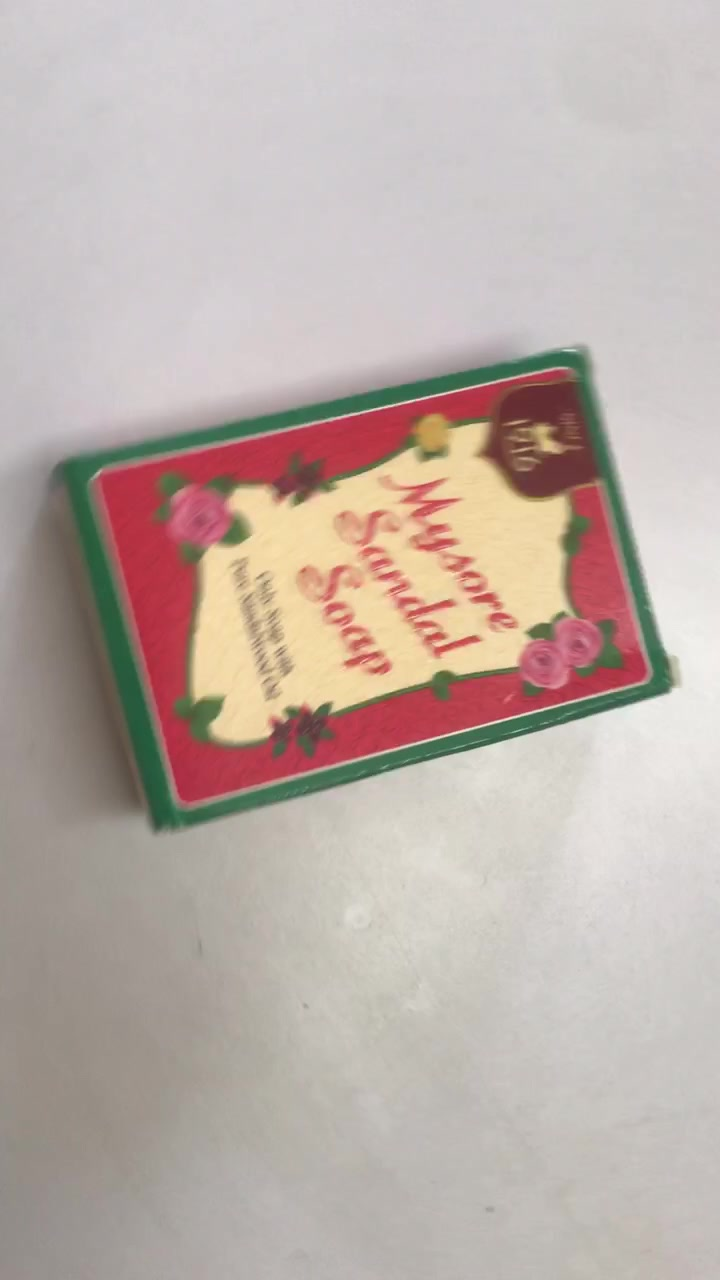mysore sandal soap: (60, 350, 680, 835)
